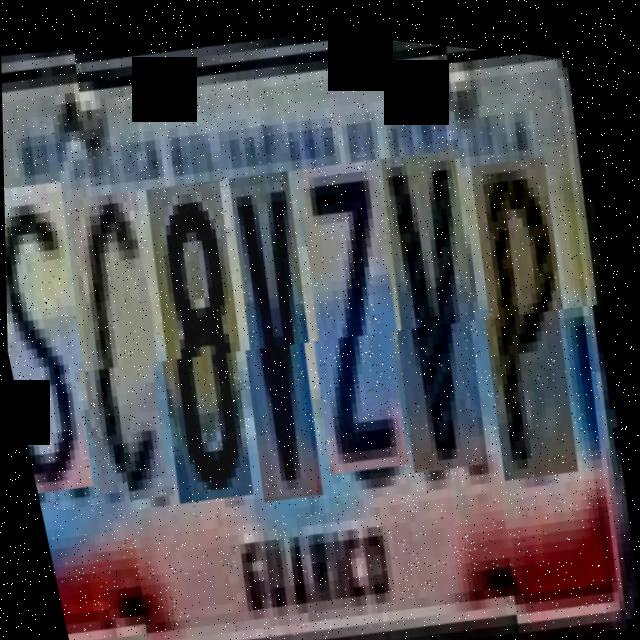8: (126, 169, 287, 508)
C: (49, 182, 202, 508)
P: (451, 133, 612, 471)
S: (3, 185, 127, 511)
V: (361, 135, 522, 474), (210, 160, 357, 504)
Z: (279, 146, 442, 477)
